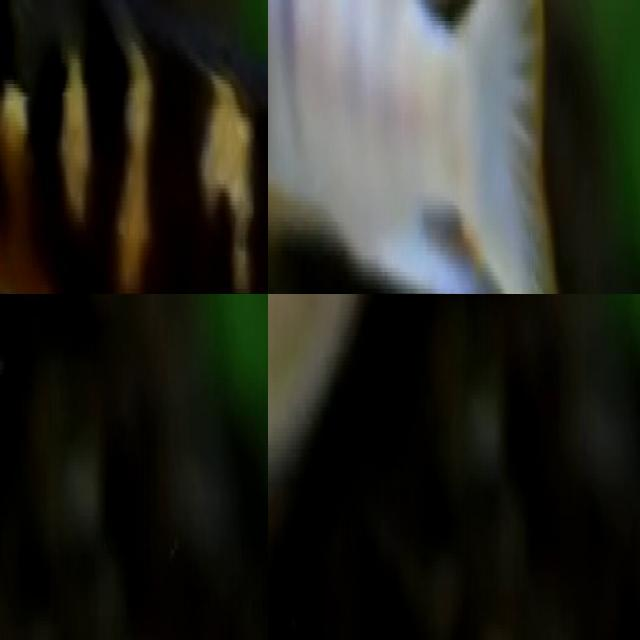fish: (0, 0, 268, 294)
